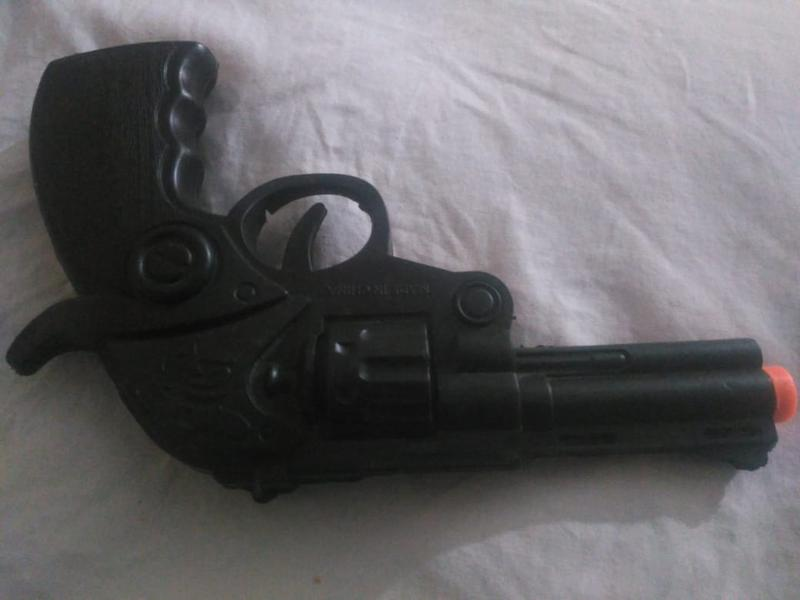gun: (9, 36, 799, 518)
